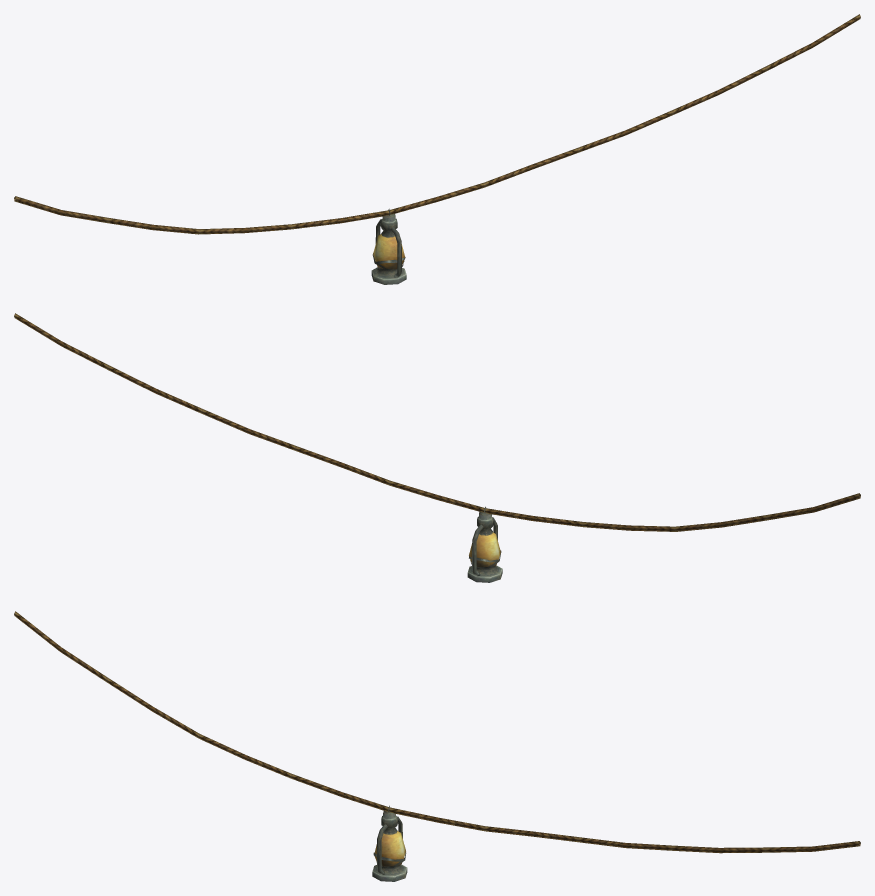
The model's file is S_Build_West010.FBX.
3 views of the same model, one above another, from view 1: azimuth 30°, elevation 25°; view 2: azimuth 150°, elevation 25°; view 3: azimuth 330°, elevation 25° (orthographic).
Parts seen in each view (by area): view 1: S_Build_West010; view 2: S_Build_West010; view 3: S_Build_West010.
Boxes of the visible parts, left/top/right/bottom form: S_Build_West010: left=14, top=14, right=860, bottom=284; S_Build_West010: left=14, top=313, right=860, bottom=582; S_Build_West010: left=14, top=611, right=860, bottom=881.
Size of the model in its own units: 928 by 45.13 by 183.
